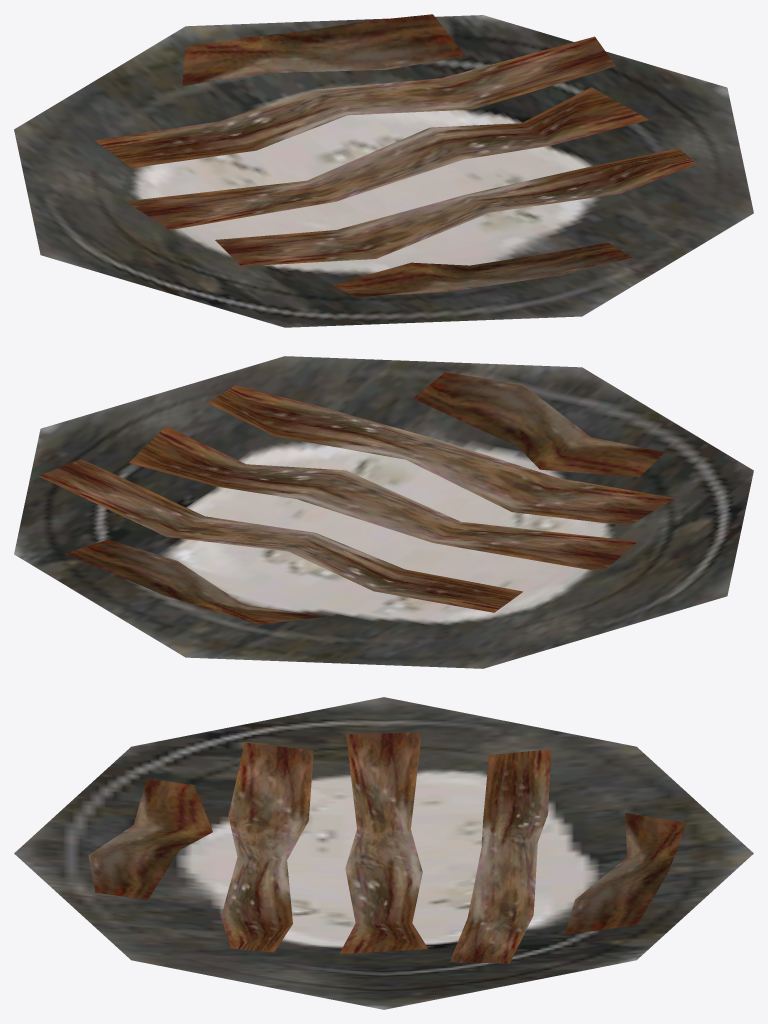
File: edb_dish_terratta_l1.fbx
3 views of the same model, one above another, from view 1: azimuth 30°, elevation 25°; view 2: azimuth 150°, elevation 25°; view 3: azimuth 270°, elevation 25° (orthographic). The views are drawn at different scales.
Parts seen in each view (by area): view 1: mesh_node; view 2: mesh_node; view 3: mesh_node.
Boxes of the visible parts, <box> form: mesh_node: <box>14,14,753,327</box>; mesh_node: <box>14,356,753,668</box>; mesh_node: <box>14,697,753,1009</box>.
Bounding box in the file's own units: 0.484 × 0.0472 × 0.484.
1 material, 1 textured.
